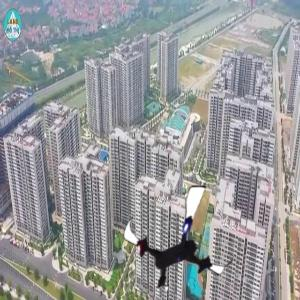drone: (121, 181, 240, 300)
